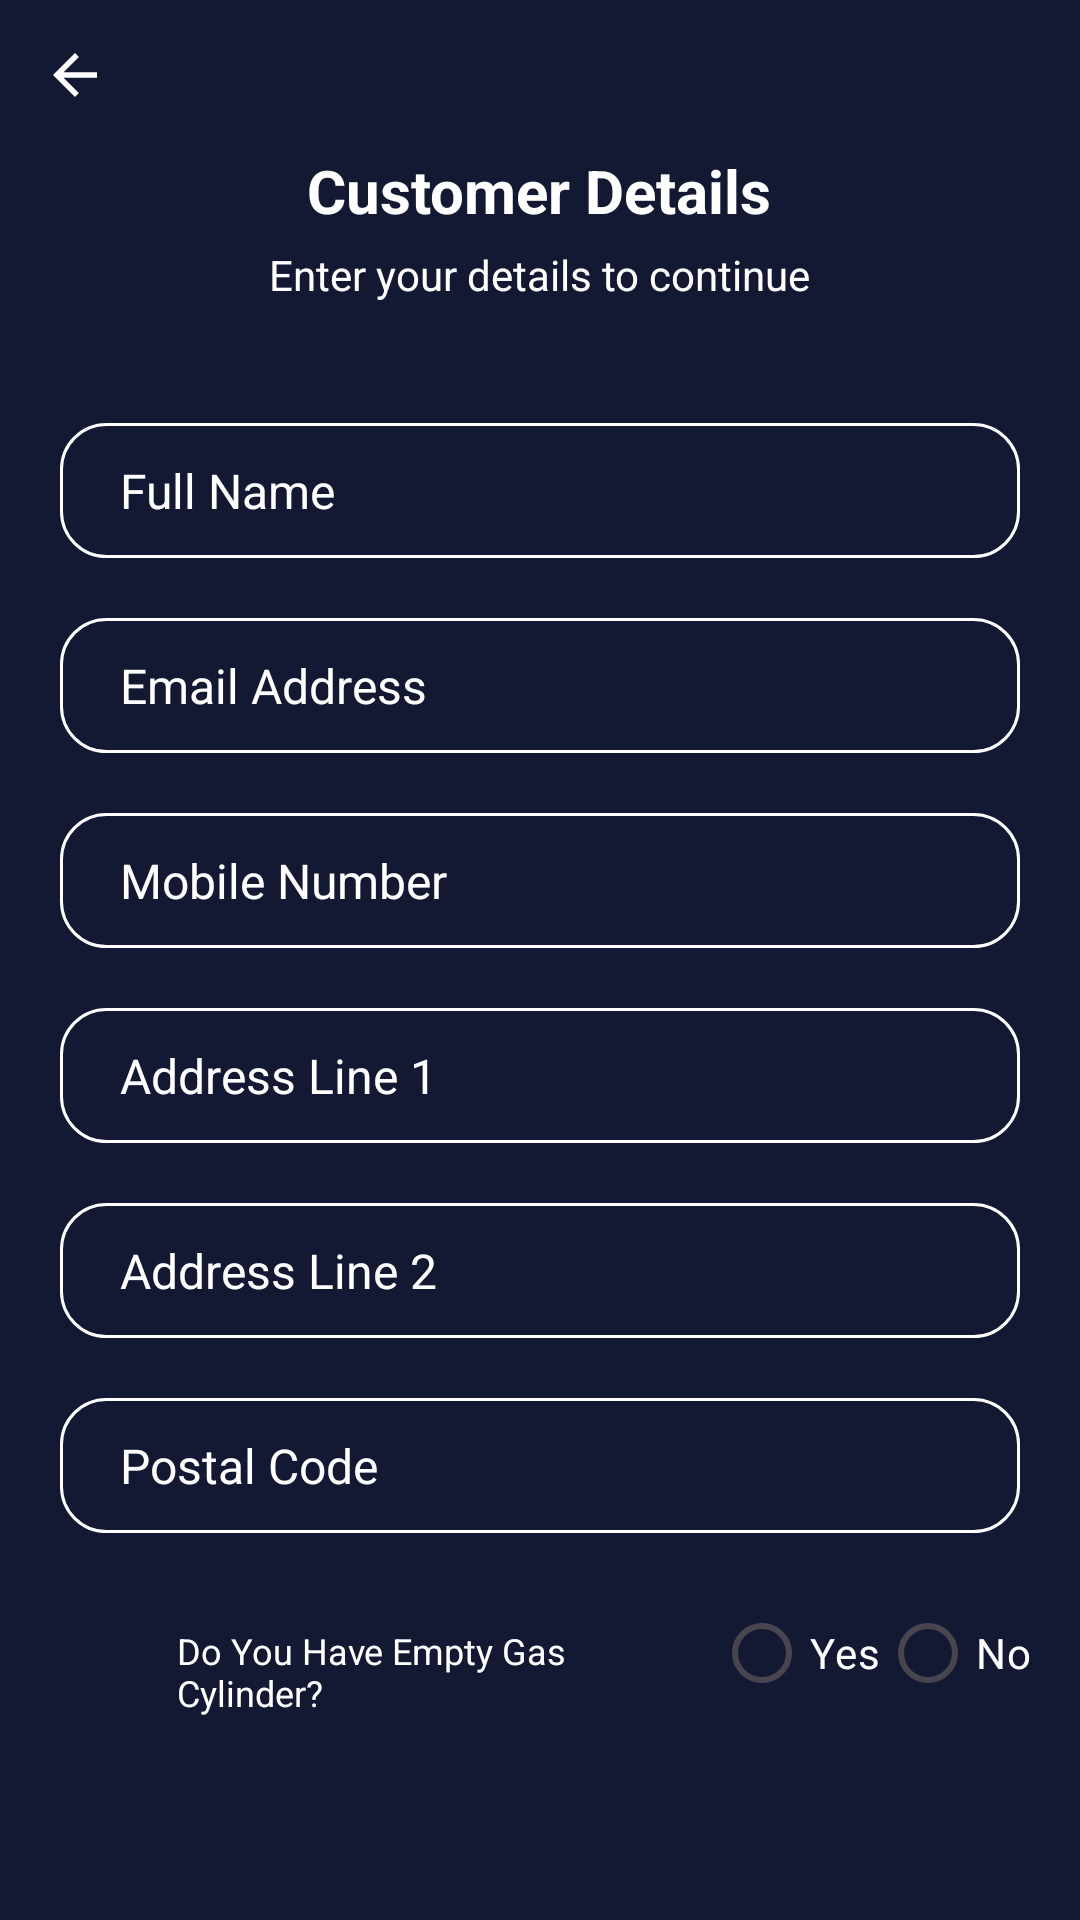

Screen size 1080 x 1920. Icon name, then its box in pixels as (x1, y1, x2, y2):
Back Button: (53, 53, 97, 97)
